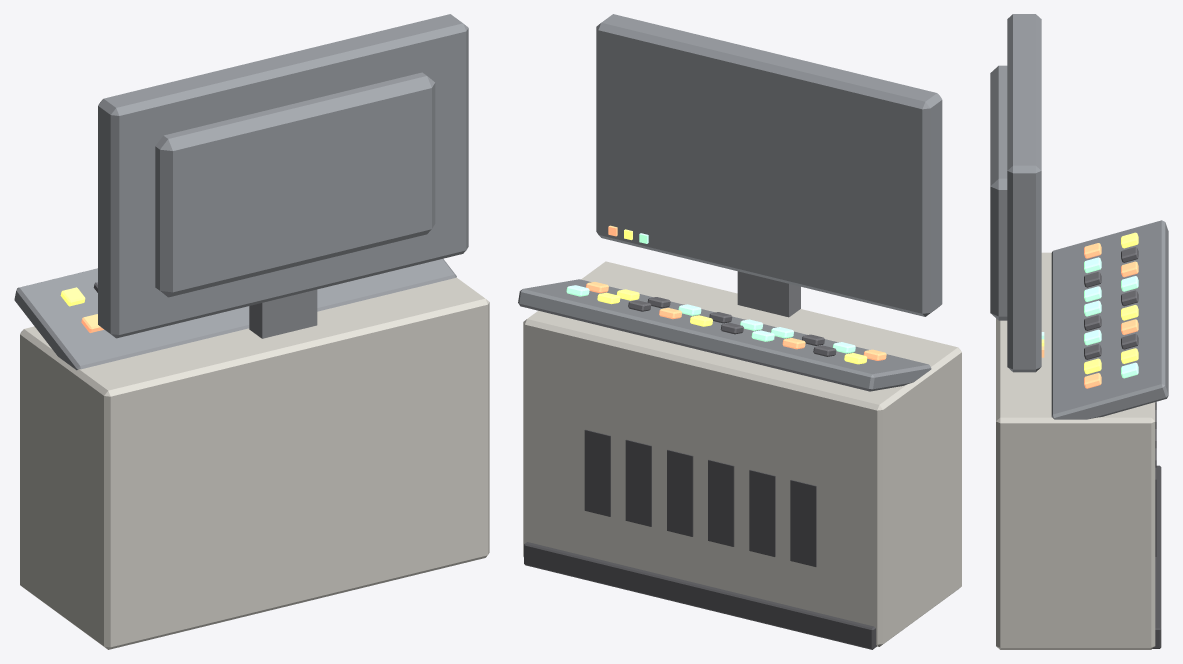
Rendered from v_bp_console.glb.
The picture shows the model from 3 angles, left to right: view 1: azimuth 30°, elevation 25°; view 2: azimuth 150°, elevation 25°; view 3: azimuth 270°, elevation 25°; orthographic projection. The views are drawn at different scales.
Visible parts, largest first — view 1: Console; view 2: Console; view 3: Console.
Part boxes in pixels (bbox=[...]): Console: bbox=[14, 14, 489, 649]; Console: bbox=[518, 14, 961, 649]; Console: bbox=[990, 14, 1168, 649].
Size of the model in its own units: 1.4 by 1.85 by 0.6265.
